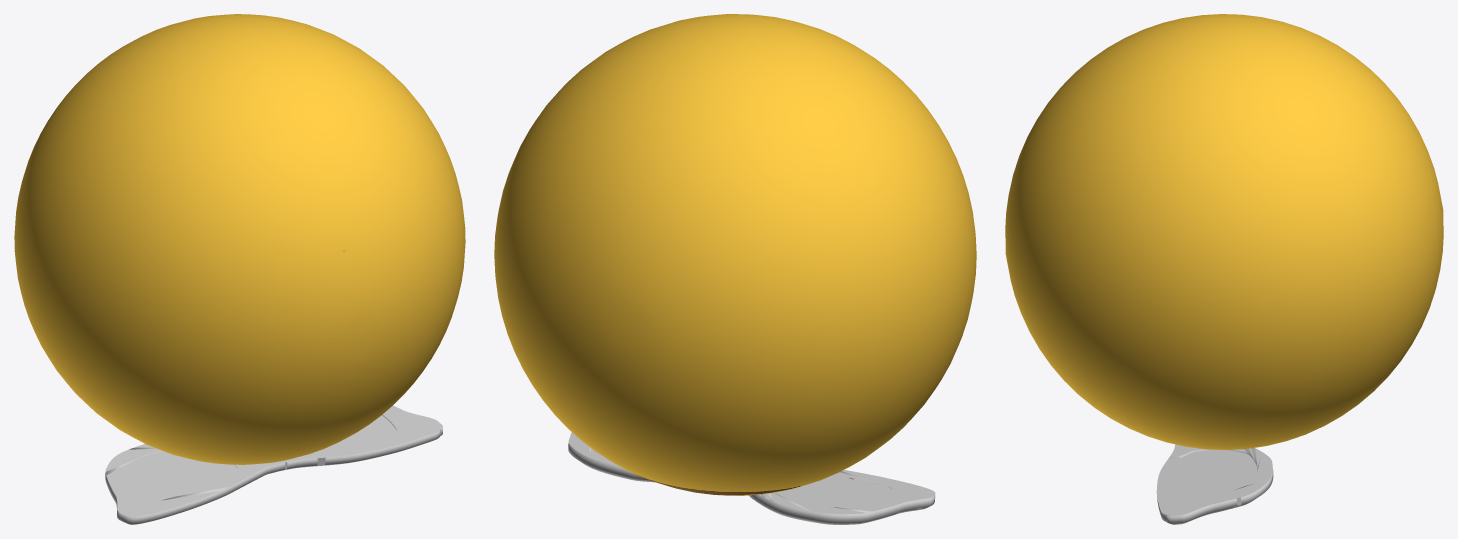
File: wrs_fcsc_emoticon_sunglasses.dae
3 renders of one model, left to right at view 1: azimuth 30°, elevation 25°; view 2: azimuth 150°, elevation 25°; view 3: azimuth 270°, elevation 25°, orthographic. The views are drawn at different scales.
Visible parts, largest first — view 1: Sphere004; view 2: Sphere004; view 3: Sphere004.
Part boxes in pixels (<box>): Sphere004: <box>14,14,465,524</box>; Sphere004: <box>494,14,976,524</box>; Sphere004: <box>1005,14,1443,524</box>.
Bounding box in the file's own units: 0.1992 × 0.2004 × 0.2097.
